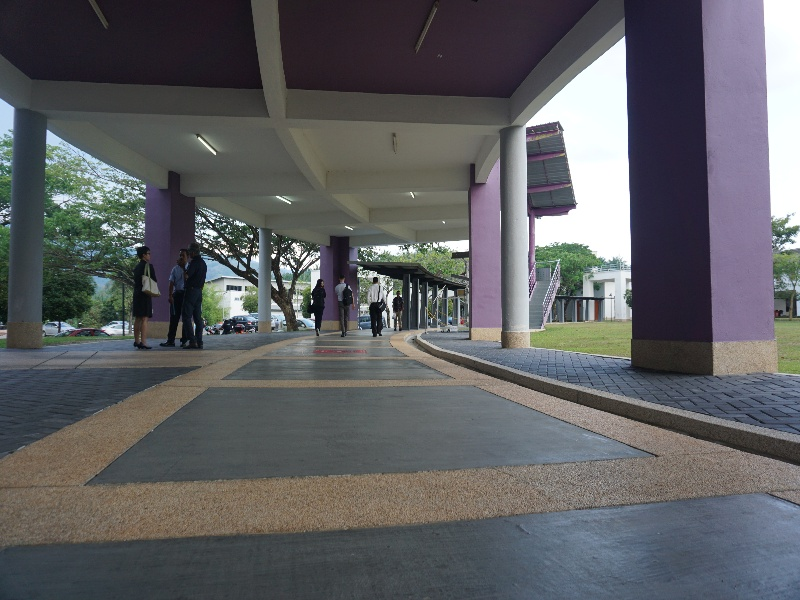Block D Pillar 2: (7, 4, 800, 475)
person: (126, 241, 162, 345), (182, 236, 208, 351), (362, 275, 392, 344), (333, 272, 356, 343), (305, 278, 325, 337)
